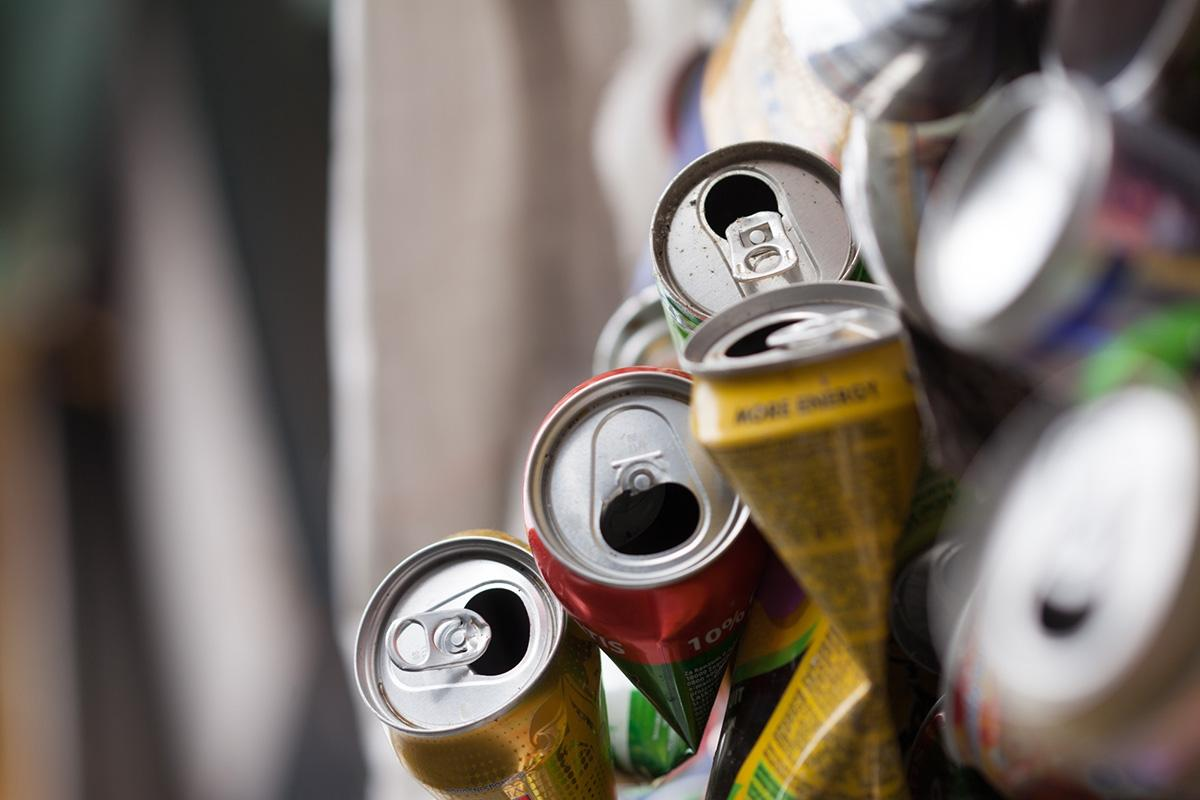metal: (921, 79, 1200, 800), (650, 282, 927, 796), (501, 363, 785, 798), (330, 533, 615, 800), (604, 130, 857, 340)
